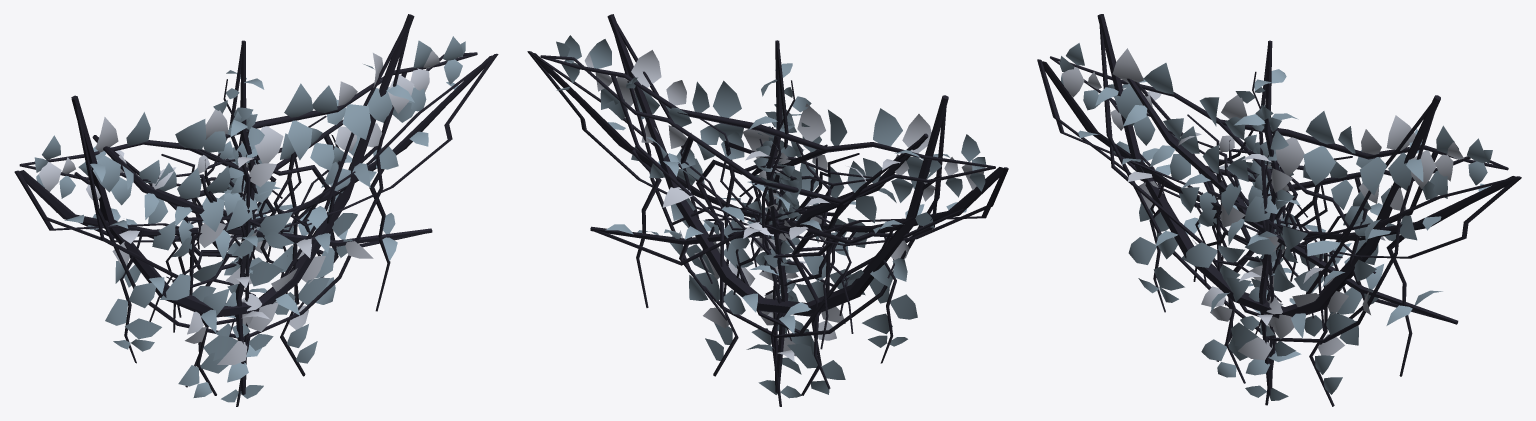
The model's file is liana.fbx.
The picture shows the model from 3 angles, left to right: view 1: azimuth 30°, elevation 25°; view 2: azimuth 150°, elevation 25°; view 3: azimuth 330°, elevation 25°; orthographic projection.
Parts seen in each view (by area): view 1: rattan_04, rattan_08, rattan_07, rattan_06, rattan_05, rattan_03, rattan_09, rattan_010, rattan_011, rattan_02; view 2: rattan_04, rattan_08, rattan_07, rattan_06, rattan_05, rattan_09, rattan_03, rattan_010, rattan_02, rattan_011, rattan_01; view 3: rattan_04, rattan_08, rattan_07, rattan_06, rattan_05, rattan_03, rattan_09, rattan_010, rattan_011.
Boxes of the visible parts, x1=… form: rattan_04: x1=19, y1=36, x2=477, y2=406; rattan_08: x1=71, y1=14, x2=414, y2=339; rattan_07: x1=14, y1=53, x2=498, y2=387; rattan_06: x1=92, y1=135, x2=432, y2=261; rattan_05: x1=219, y1=40, x2=281, y2=394; rattan_03: x1=213, y1=79, x2=269, y2=337; rattan_09: x1=161, y1=115, x2=329, y2=317; rattan_010: x1=143, y1=147, x2=299, y2=304; rattan_011: x1=166, y1=134, x2=339, y2=288; rattan_02: x1=222, y1=155, x2=264, y2=286; rattan_04: x1=540, y1=35, x2=995, y2=406; rattan_08: x1=607, y1=14, x2=950, y2=338; rattan_07: x1=527, y1=51, x2=1008, y2=388; rattan_06: x1=590, y1=133, x2=928, y2=265; rattan_05: x1=745, y1=40, x2=805, y2=392; rattan_09: x1=696, y1=119, x2=859, y2=315; rattan_03: x1=747, y1=80, x2=811, y2=340; rattan_010: x1=723, y1=140, x2=871, y2=302; rattan_02: x1=753, y1=145, x2=800, y2=281; rattan_011: x1=680, y1=133, x2=849, y2=286; rattan_01: x1=758, y1=164, x2=799, y2=265; rattan_04: x1=1050, y1=43, x2=1508, y2=406; rattan_08: x1=1095, y1=14, x2=1440, y2=342; rattan_07: x1=1037, y1=59, x2=1521, y2=376; rattan_06: x1=1123, y1=78, x2=1458, y2=325; rattan_05: x1=1234, y1=40, x2=1301, y2=395; rattan_03: x1=1235, y1=71, x2=1299, y2=336; rattan_09: x1=1187, y1=114, x2=1352, y2=318; rattan_010: x1=1168, y1=130, x2=1324, y2=331; rattan_011: x1=1193, y1=140, x2=1367, y2=266.
Bounding box in the file's own units: 4583 × 3303 × 579.
